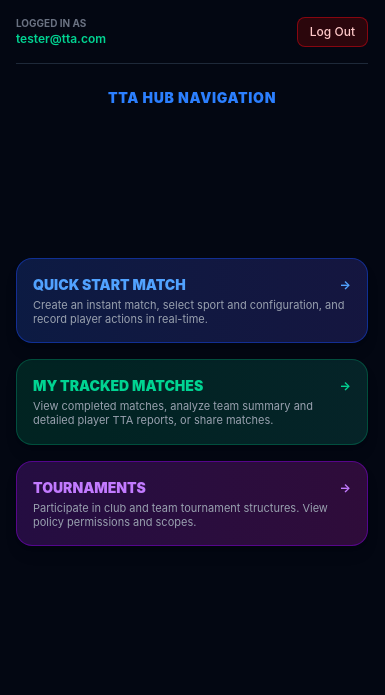
Scenario: App Bootstrapping Component › should navigate from Hub to MatchSetupWizard when clicking Quick Start Match card
Click the heading "Quick Start Match" at (109,285), box [33, 275, 186, 295]
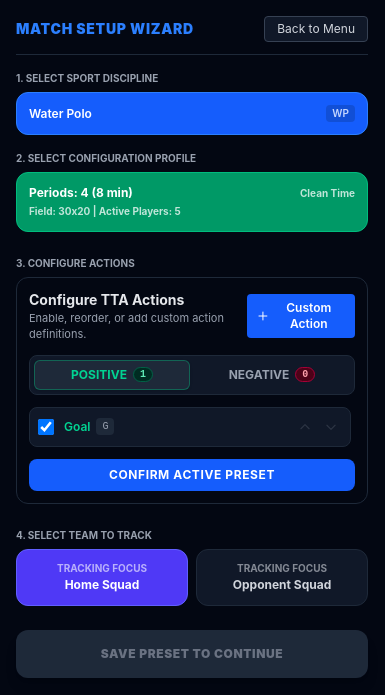
Result: the heading "Match Setup Wizard" is shown at [16, 19, 194, 39]
